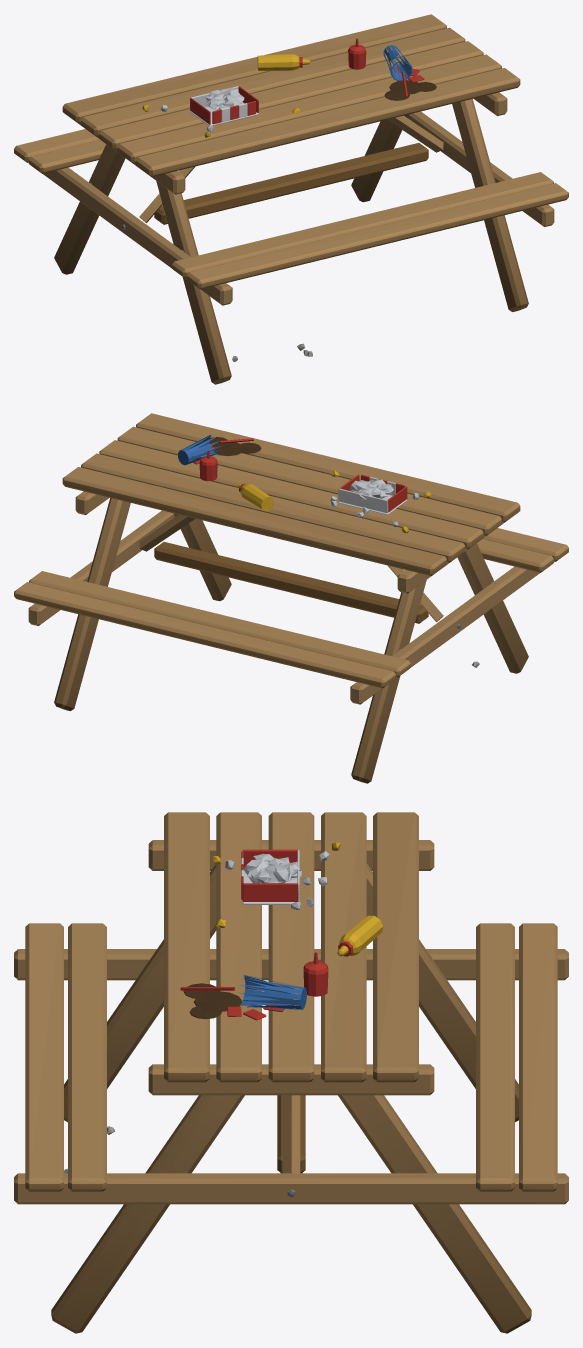
Rendered from picnic-table.glb.
3 views of the same model, one above another, from view 1: azimuth 30°, elevation 25°; view 2: azimuth 150°, elevation 25°; view 3: azimuth 270°, elevation 25° (orthographic). The views are drawn at different scales.
Visible parts, largest first — view 1: picnic_table; view 2: picnic_table; view 3: picnic_table.
Part boxes in pixels (left/top/right/bottom): picnic_table: left=14, top=14, right=568, bottom=384; picnic_table: left=14, top=413, right=568, bottom=783; picnic_table: left=14, top=812, right=568, bottom=1333.
Size of the model in its own units: 1.5 by 0.8859 by 1.36.
